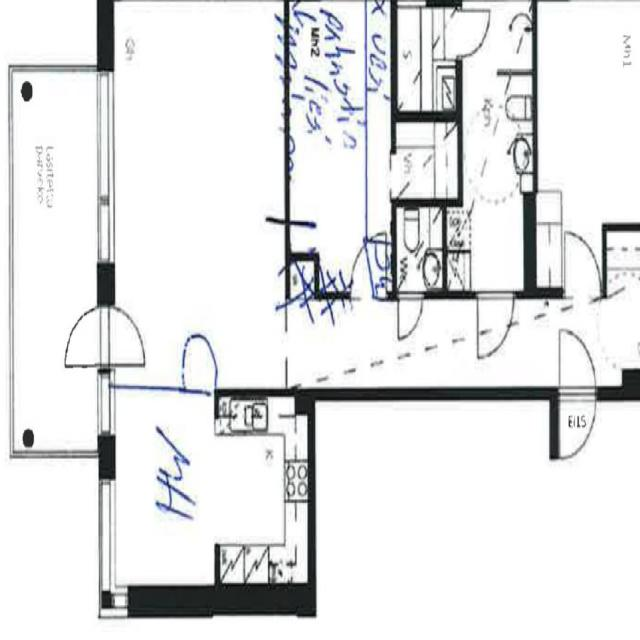door: (560, 387, 596, 468), (560, 320, 596, 400), (66, 307, 115, 364), (98, 307, 146, 364), (565, 224, 601, 299), (478, 290, 514, 364), (185, 328, 216, 396), (455, 11, 487, 56), (399, 290, 422, 341)
